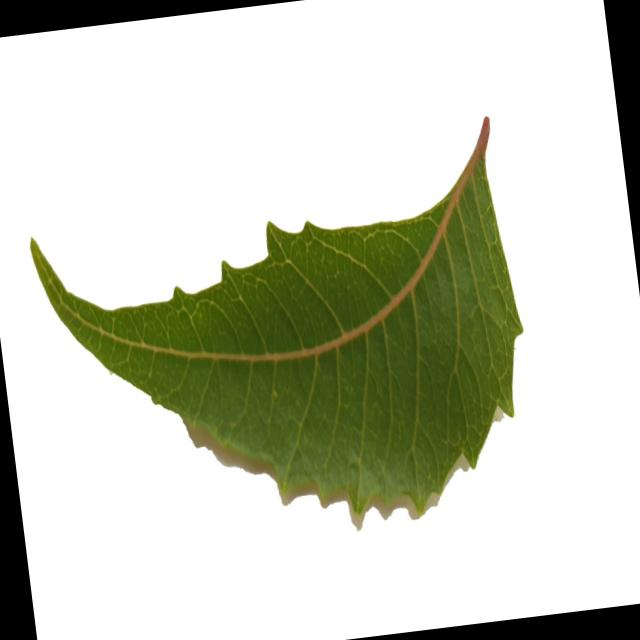Medicinal-Neem: (21, 119, 546, 560)
